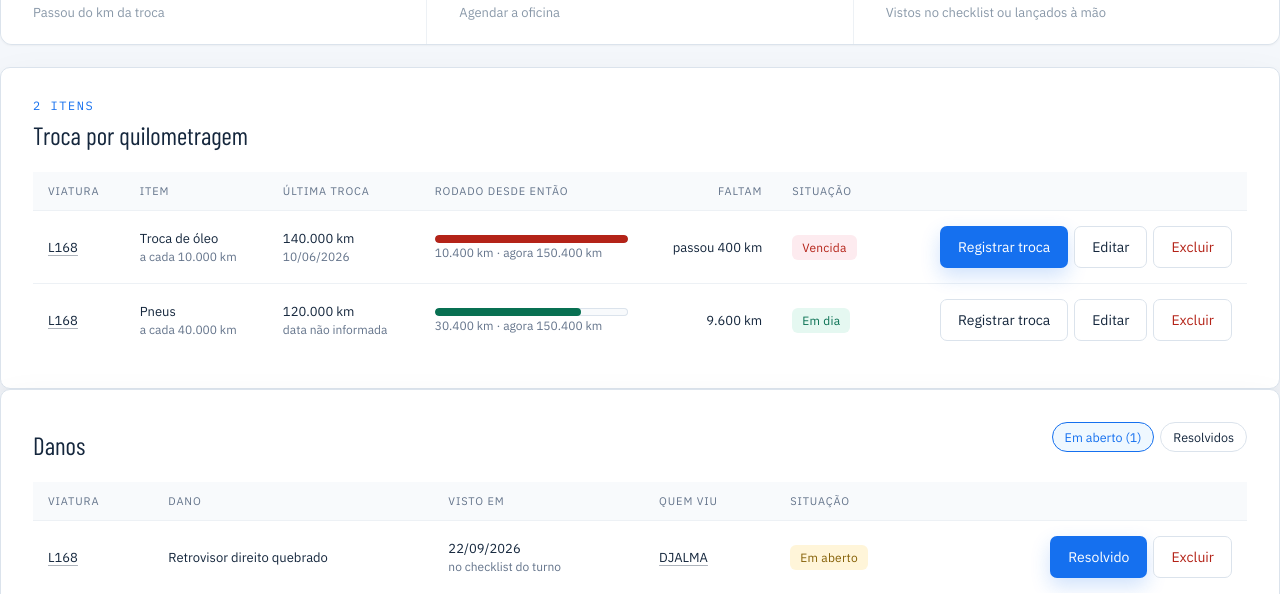
Test: dano resolvido sai da lista de abertos
This screenshot has width=1280, height=594.
(page scrolled)
Step 1. Click the button "Resolvido" → x=1099, y=558, box [1050,536,1147,578]
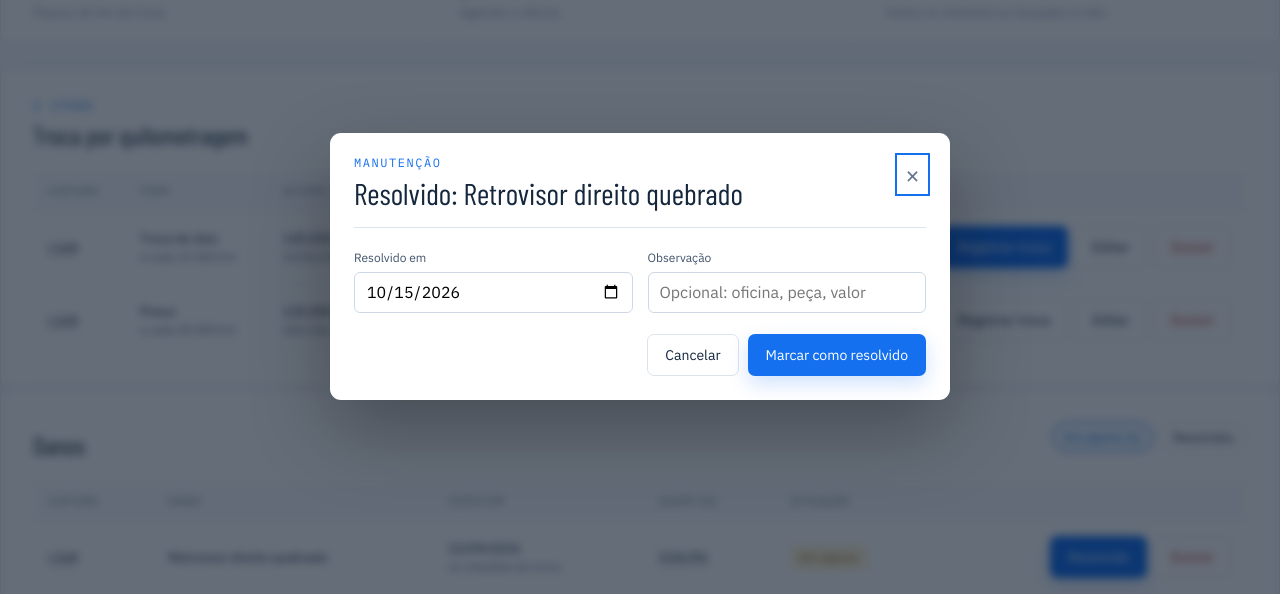
Step 2. Type "Trocado na oficina do Zé" into the field labelled "Observação" → x=787, y=292, box [648,272,926,312]
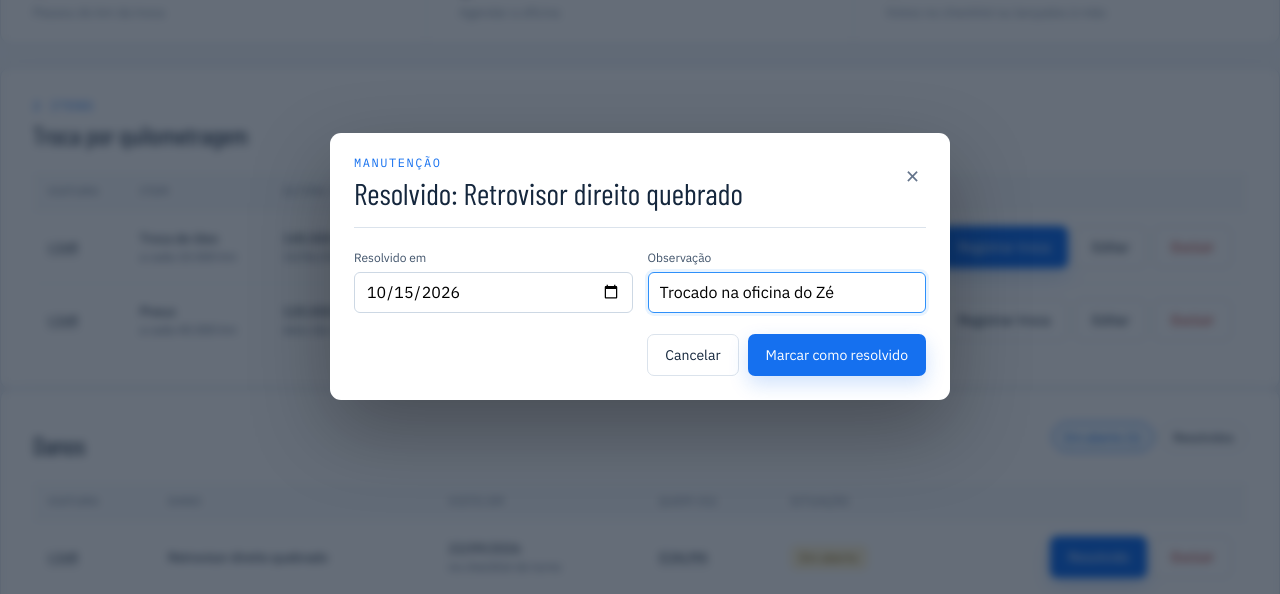
Step 3. Click the button "Marcar como resolvido" → x=837, y=354, box [748,334,926,376]
(page scrolled)
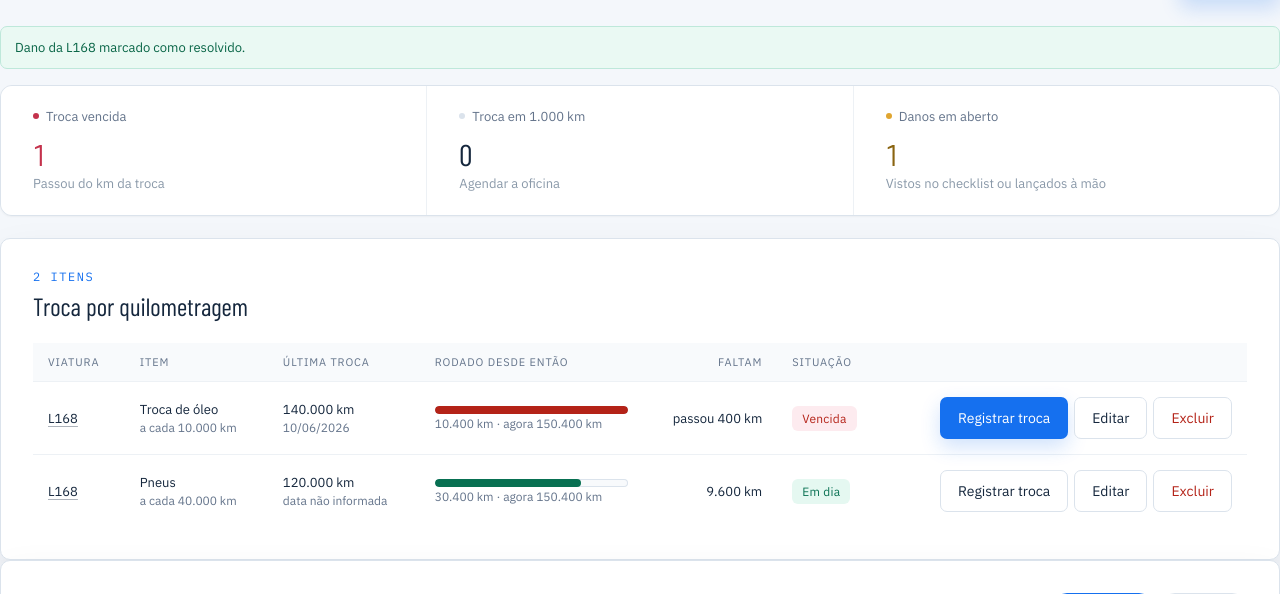
expect the text "Dano da L168 marcado como resolvido." is shown: met, box [0,26,1279,69]
